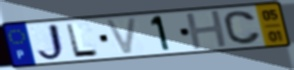1: (147, 14, 173, 54)
C: (222, 10, 263, 46)
H: (184, 9, 231, 52)
J: (35, 22, 69, 62)
L: (64, 22, 101, 58)
V: (103, 16, 140, 57)
